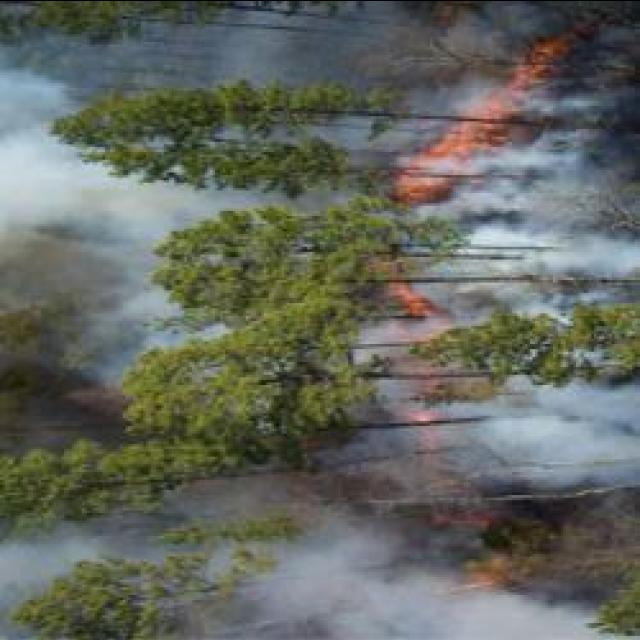fire: (438, 123, 481, 153), (408, 294, 430, 312)
smoke: (519, 384, 640, 458), (338, 576, 457, 640), (288, 534, 396, 602), (446, 594, 590, 640), (81, 183, 191, 236), (0, 151, 73, 226), (532, 453, 640, 492), (547, 242, 639, 274), (0, 70, 59, 118), (452, 181, 526, 214), (228, 31, 278, 78), (498, 144, 580, 172), (7, 544, 62, 585), (116, 284, 167, 324), (490, 417, 540, 442), (510, 298, 568, 316), (478, 226, 540, 242), (532, 98, 612, 110)
